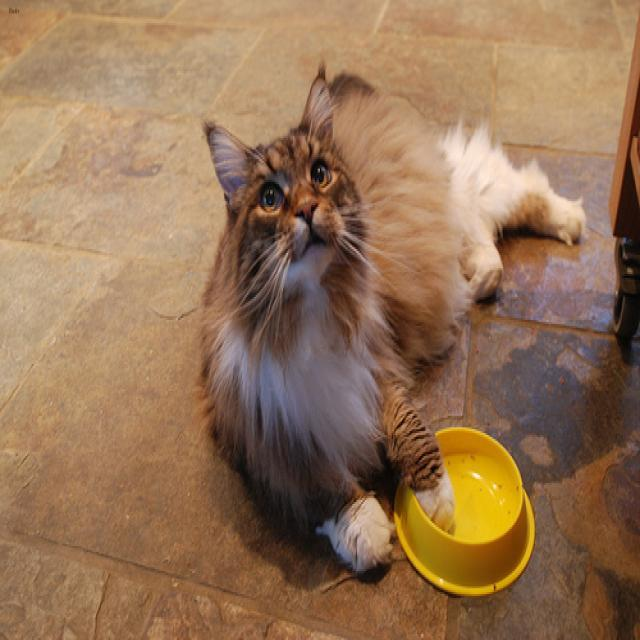Maine_Coon: (205, 71, 351, 282)
